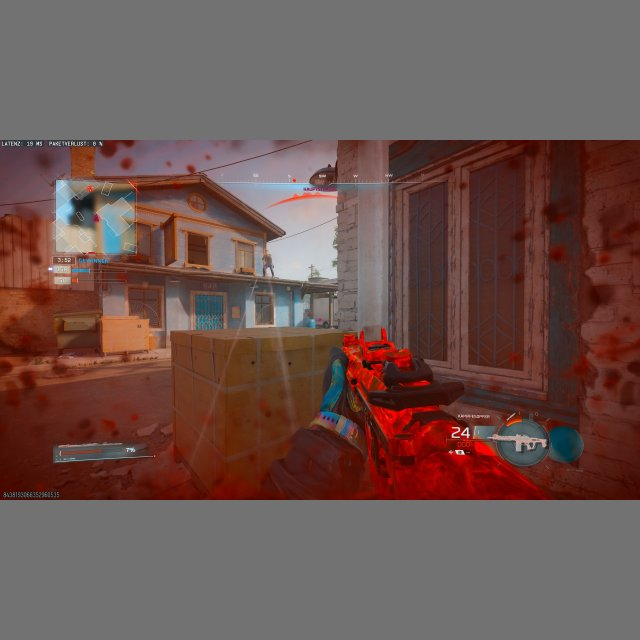player: (262, 251, 274, 277), (320, 319, 329, 328)
